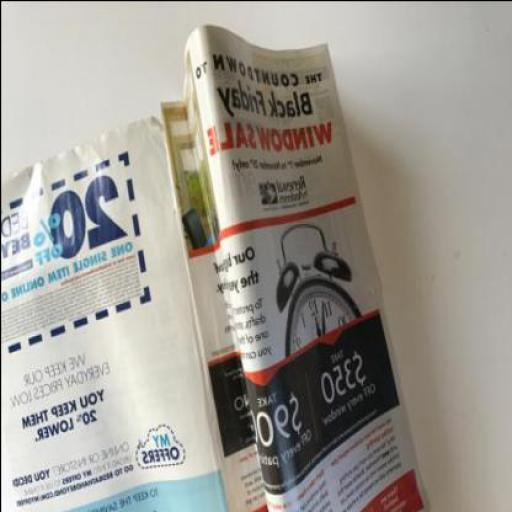paper: (1, 27, 427, 511)
